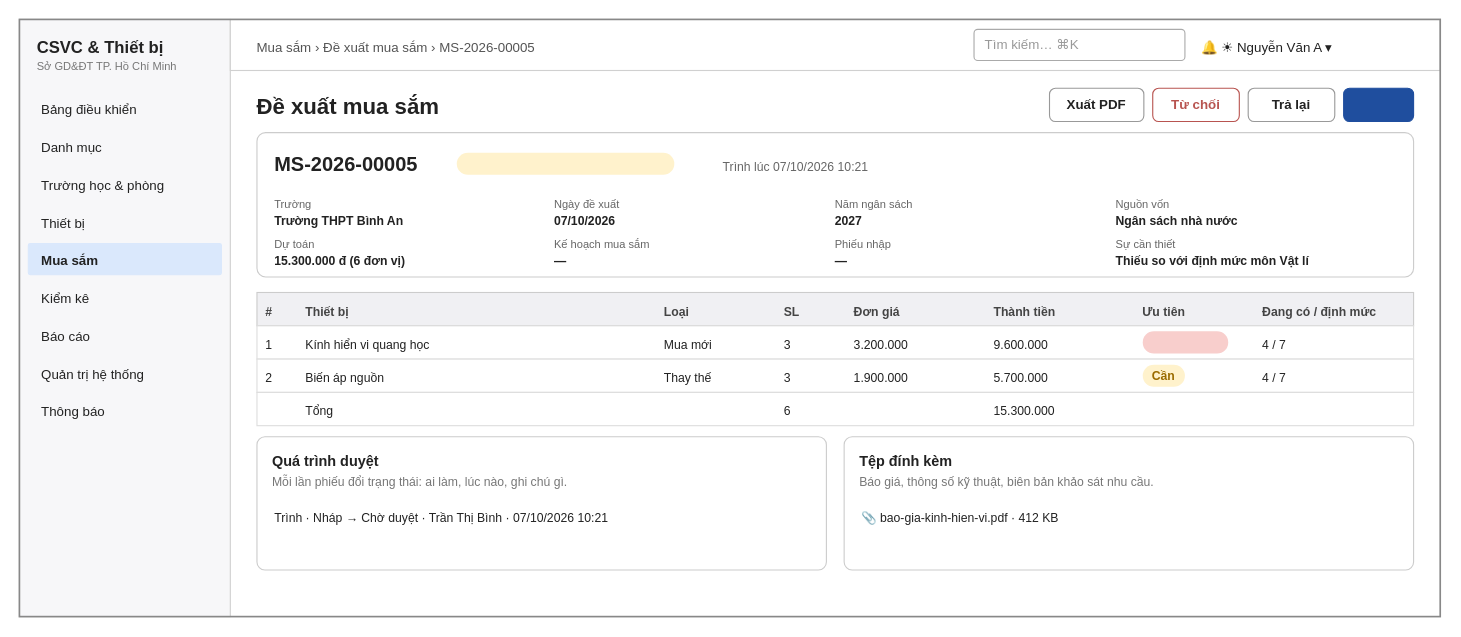
Some shapes in this 1461 by 637 pixel diagram are drawn without their labels. Here are the shapes that lost their labels. From the top down, the centre of each, then its label:
the point at 1378,104: Duyệt
the point at 565,163: Chờ duyệt — lãnh đạo trường
the point at 1185,342: Cấp thiết
